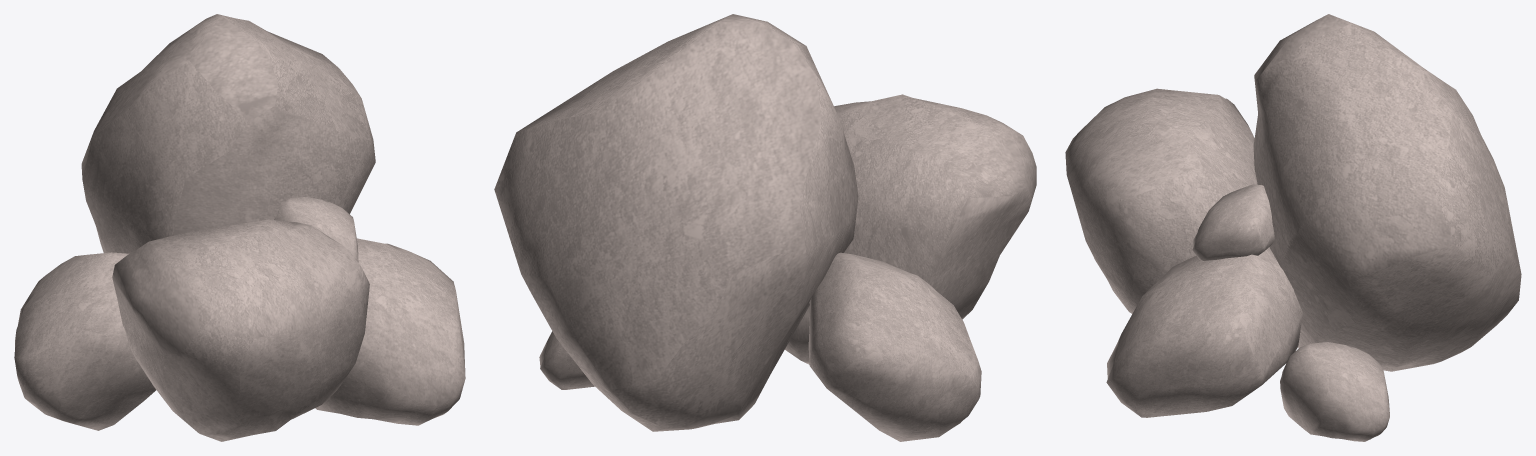
File: rocks.glb
3 views of the same model, side by side, from view 1: azimuth 30°, elevation 25°; view 2: azimuth 150°, elevation 25°; view 3: azimuth 270°, elevation 25° (orthographic). The views are drawn at different scales.
Visible parts, largest first — view 1: Plane.004; view 2: Plane.004; view 3: Plane.004.
Part boxes in pixels (x1,y1,x2,y2): Plane.004: (14,14,465,441); Plane.004: (494,14,1036,441); Plane.004: (1065,14,1521,441).
Bounding box in the file's own units: 1636 × 1472 × 1726.
1 material, 1 textured.
